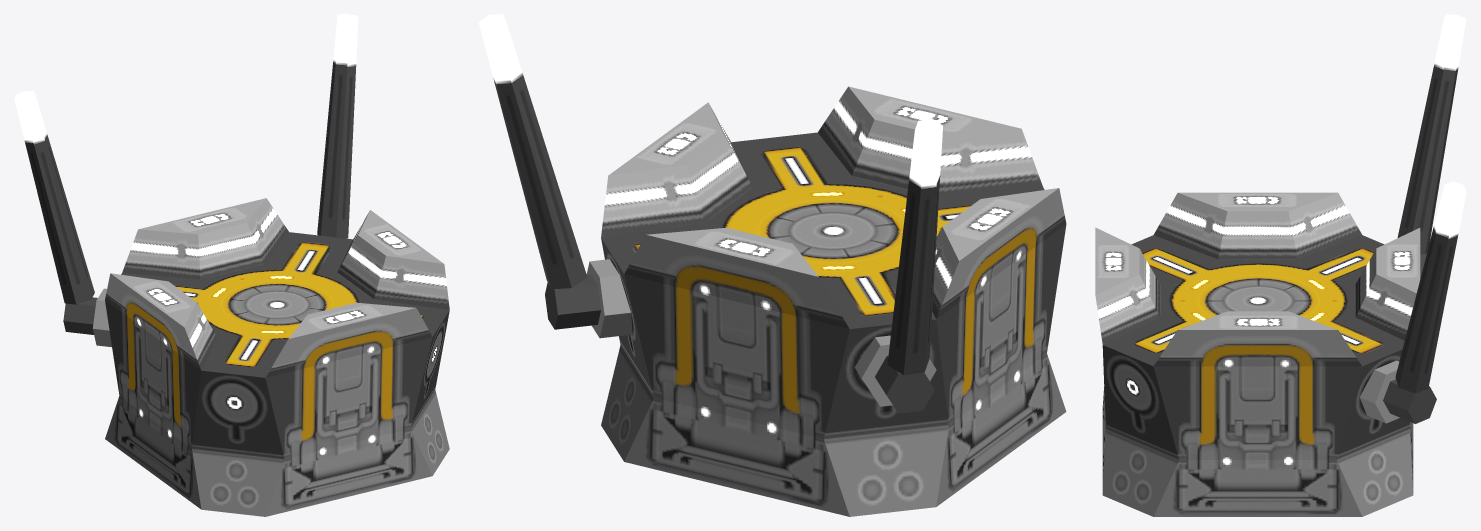
The model's file is drone-depot.gltf.
3 renders of one model, left to right at view 1: azimuth 30°, elevation 25°; view 2: azimuth 150°, elevation 25°; view 3: azimuth 270°, elevation 25°, orthographic. The views are drawn at different scales.
Visible parts, largest first — view 1: Plane.018; view 2: Plane.018; view 3: Plane.018.
Part boxes in pixels (left/top/right/bottom): Plane.018: left=14, top=14, right=449, bottom=516; Plane.018: left=478, top=14, right=1066, bottom=516; Plane.018: left=1095, top=14, right=1466, bottom=516.
Bounding box in the file's own units: 10.86 × 9.83 × 9.43.
Materials: 1 (1 with a texture image).
